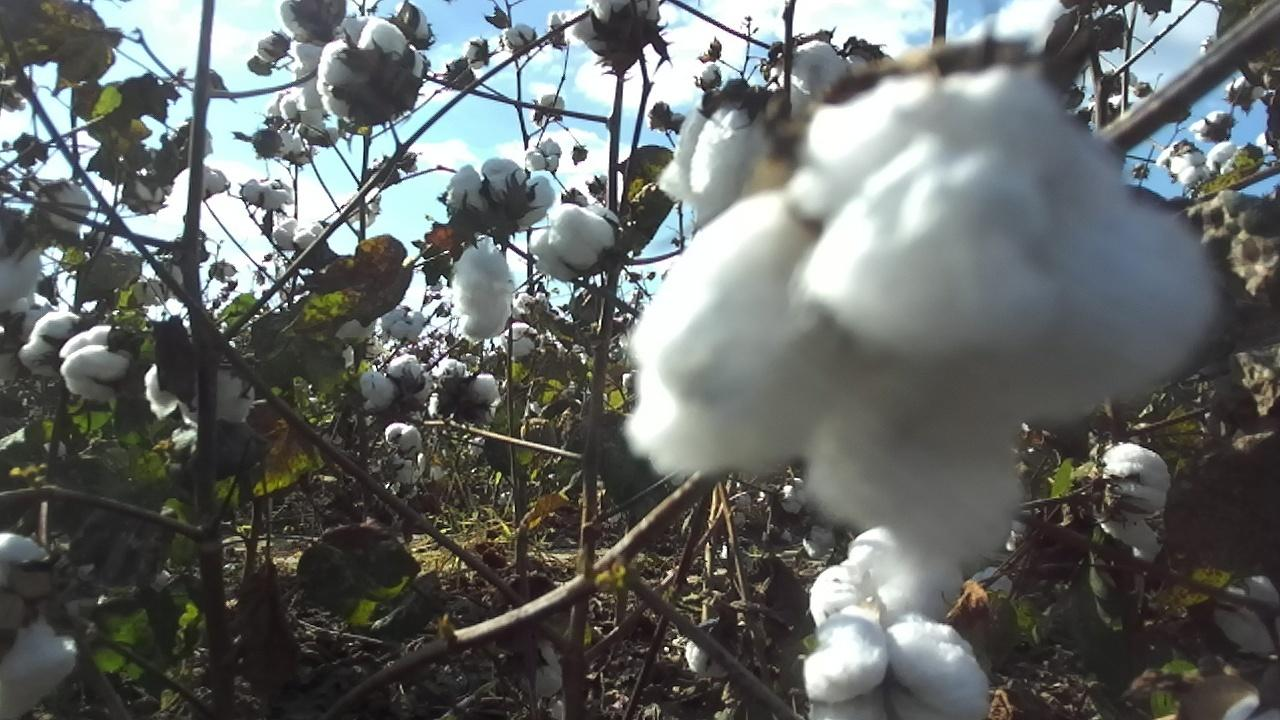cotton_ready: (623, 62, 1220, 563), (802, 610, 992, 720), (660, 89, 786, 233), (810, 524, 969, 626), (0, 530, 79, 720), (319, 20, 427, 125), (769, 37, 897, 109), (447, 155, 553, 238), (147, 350, 255, 430), (1099, 444, 1170, 561), (535, 202, 617, 279), (453, 245, 519, 339), (60, 322, 135, 404), (1215, 574, 1280, 660), (772, 480, 834, 561), (575, 0, 662, 57), (19, 310, 80, 381), (0, 209, 42, 311), (428, 358, 502, 415), (357, 353, 432, 409), (505, 644, 567, 700), (35, 184, 92, 241), (685, 632, 745, 674)
